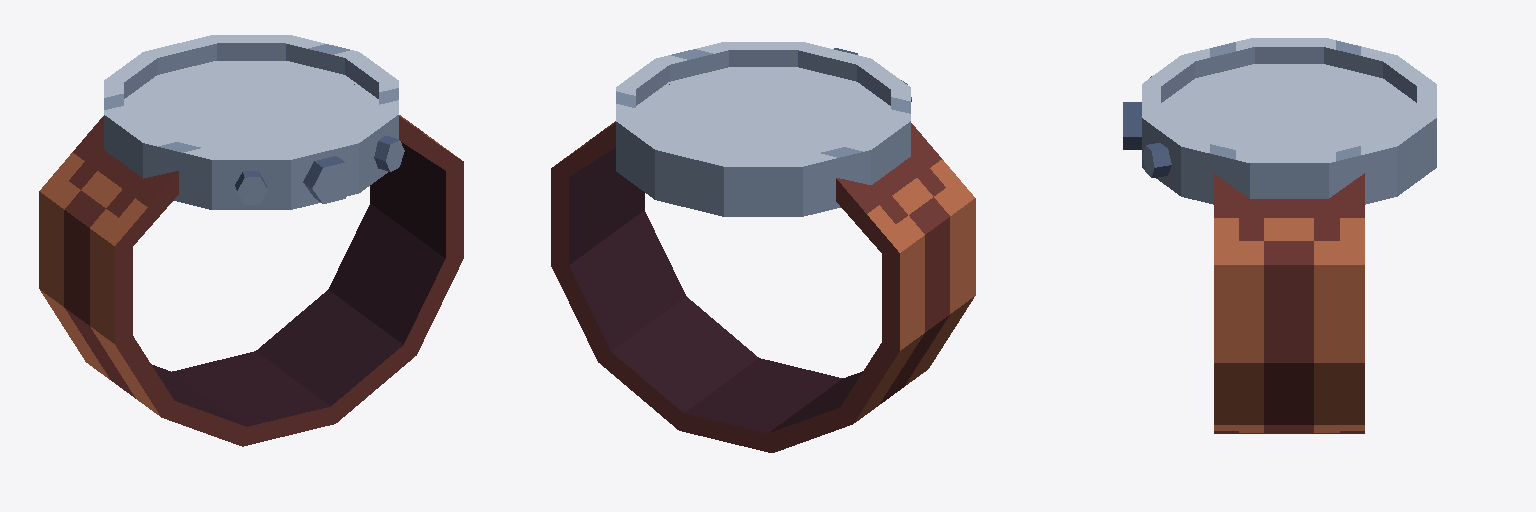
3 views of the same model, side by side, from view 1: azimuth 30°, elevation 25°; view 2: azimuth 150°, elevation 25°; view 3: azimuth 270°, elevation 25° (orthographic).
Visible parts, largest first — view 1: tube, cylinder; view 2: tube, cylinder; view 3: cylinder, tube.
Part boxes in pixels (x1,y1,x2,y2): tube: (39, 84, 463, 446); cylinder: (104, 35, 404, 209); tube: (551, 84, 975, 452); cylinder: (616, 42, 911, 216); cylinder: (1123, 38, 1436, 204); tube: (1214, 173, 1364, 433).
Size of the model in its own units: 1 by 0.85 by 0.7791.
Materials: 1 (1 with a texture image).